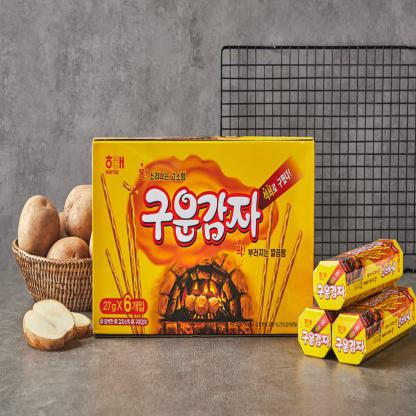potato: (53, 161, 109, 255), (9, 178, 60, 272)
